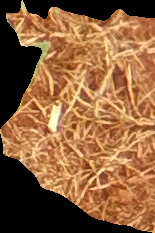soil: (1, 2, 154, 231)
